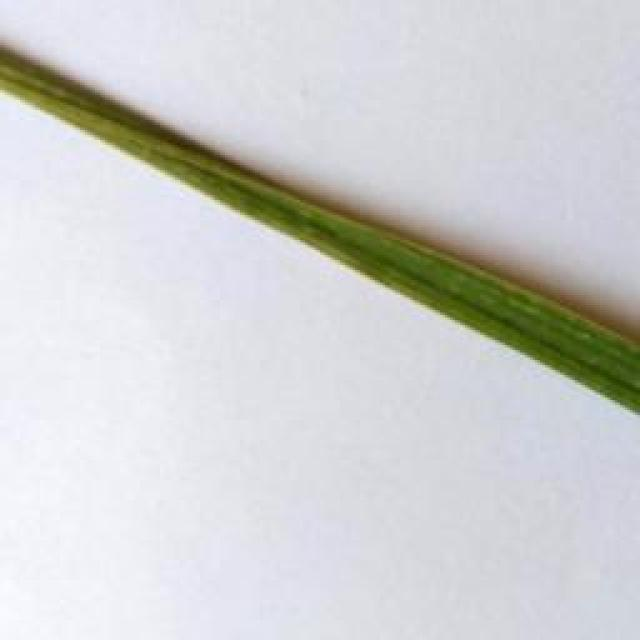Healthy-Plant: (0, 57, 640, 412)
